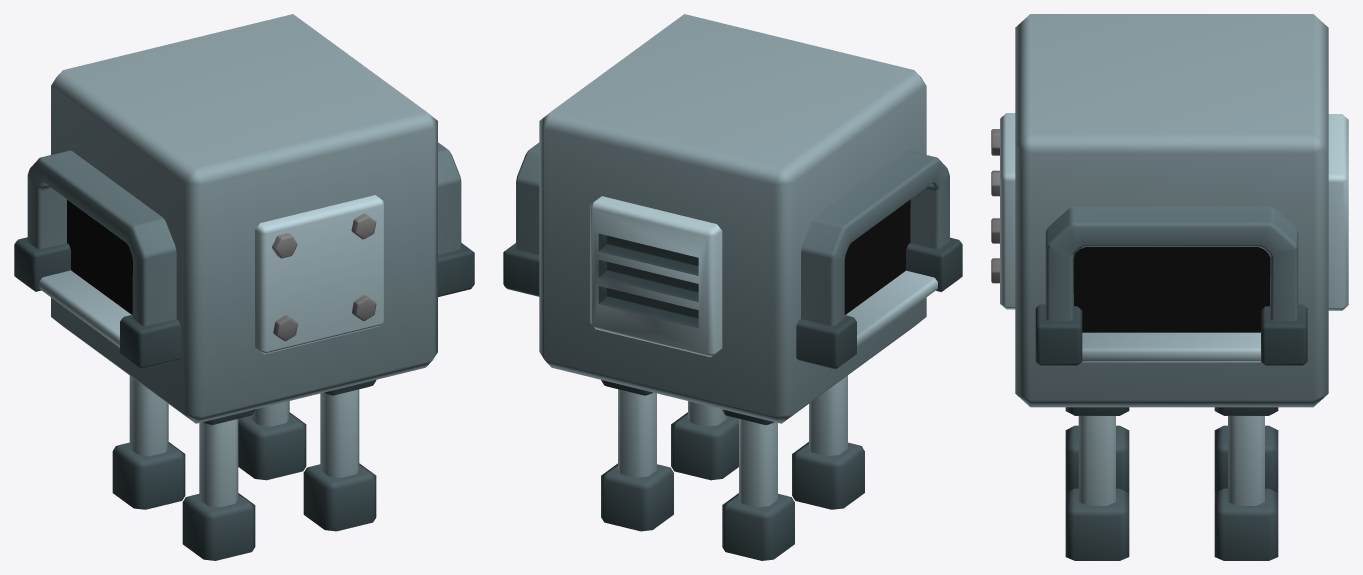
The model's file is SM_Machine_Generic_2Input.fbx.
3 views of the same model, side by side, from view 1: azimuth 30°, elevation 25°; view 2: azimuth 150°, elevation 25°; view 3: azimuth 270°, elevation 25° (orthographic). The views are drawn at different scales.
Visible parts, largest first — view 1: polySurface45; view 2: polySurface45; view 3: polySurface45.
Boxes of the visible parts, x1,y1,x2,y2 form: polySurface45: (14,14,474,560); polySurface45: (503,14,962,560); polySurface45: (991,14,1348,560).
Size of the model in its own units: 139 by 120 by 164.
